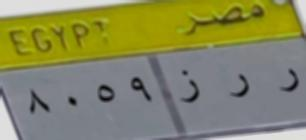0: (59, 87, 84, 116)
5: (90, 78, 120, 112)
8: (21, 79, 52, 121)
9: (126, 73, 156, 109)
raa: (222, 63, 257, 103), (275, 67, 301, 103)
zay: (174, 65, 200, 111)
